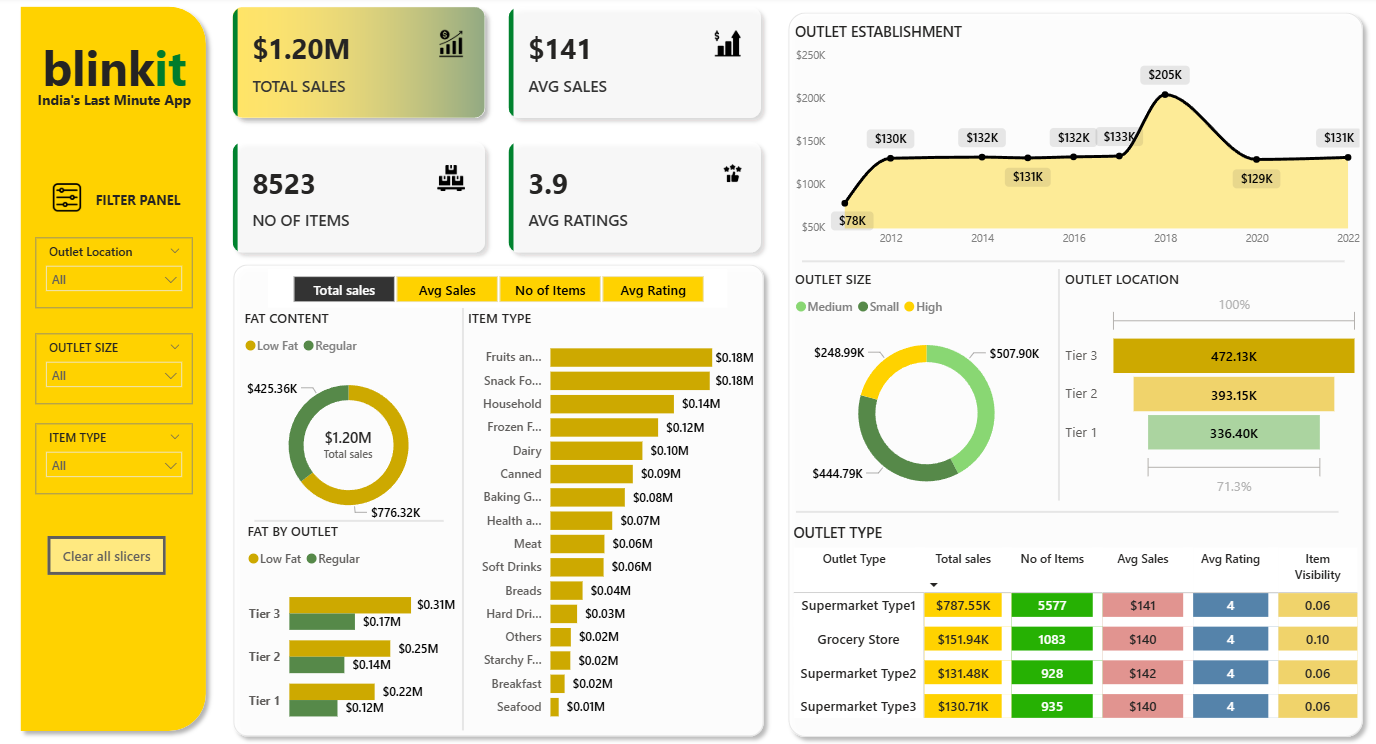

The page's visual inventory and layout, read from the dashboard file:
{"tool":"powerbi","page":{"name":"Page 1","canvas":[1400,800],"ordinal":0},"visuals":[{"type":"shape","box":[14.3,19.6,205.4,750],"z":0},{"type":"textbox","box":[32.1,51.8,171.4,75],"z":1000},{"type":"textbox","box":[32.1,107.1,171.4,33.9],"z":2000},{"type":"cardVisual","fields":{"Data":["BlinkIT Grocery Data.Total sales","BlinkIT Grocery Data.Avg Sales","BlinkIT Grocery Data.No of Items","BlinkIT Grocery Data.Avg Rating"]},"box":[219.6,12.5,569.6,282.1],"z":3000},{"type":"shape","box":[228.6,280.4,553.6,494.6],"z":4000},{"type":"donutChart","title":"FAT CONTENT","fields":{"Y":["BlinkIT Grocery Data.Total sales"],"Category":["BlinkIT Grocery Data.Item Fat Content"]},"box":[244.6,333.9,219.6,230.4],"z":5000},{"type":"slicer","fields":{"Values":["Metrics.Metrics"]},"box":[273.2,294.6,464.3,39.3],"z":6000},{"type":"cardVisual","fields":{"Data":["BlinkIT Grocery Data.Total sales"]},"box":[303.6,435.7,101.8,66.1],"z":7000},{"type":"clusteredBarChart","title":"FAT BY OUTLET","fields":{"Y":["BlinkIT Grocery Data.Total sales"],"Category":["BlinkIT Grocery Data.Outlet Location Type"],"Series":["BlinkIT Grocery Data.Item Fat Content"]},"box":[246.4,548.2,219.6,221.4],"z":8000},{"type":"shape","box":[258.9,539.3,191.1,17.9],"z":9000},{"type":"shape","box":[450,333.9,39.3,426.8],"z":10000},{"type":"clusteredBarChart","title":"ITEM TYPE","fields":{"Y":["BlinkIT Grocery Data.Total sales"],"Category":["BlinkIT Grocery Data.Item Type"]},"box":[469.6,333.9,298.2,426.8],"z":11000},{"type":"shape","box":[789.3,25,598.2,750],"z":12000},{"type":"lineChart","title":"OUTLET ESTABLISHMENT","fields":{"Y":["BlinkIT Grocery Data.Total sales"],"Category":["BlinkIT Grocery Data.Outlet Establishment Year"]},"box":[800,44.6,580.4,235.7],"z":13000},{"type":"shape","box":[812.5,276.8,548.2,17.9],"z":14000},{"type":"donutChart","title":"OUTLET SIZE","fields":{"Y":["BlinkIT Grocery Data.Total sales"],"Category":["BlinkIT Grocery Data.Outlet Size"]},"box":[800,294.6,275,244.6],"z":15000},{"type":"shape","box":[1064.3,294.6,16.1,233.9],"z":16000},{"type":"funnel","title":"OUTLET LOCATION","fields":{"Category":["BlinkIT Grocery Data.Outlet Location Type"],"Y":["Sum(BlinkIT Grocery Data.Sales)"]},"box":[1073.2,294.6,307.1,233.9],"z":17000},{"type":"shape","box":[805.4,530.4,548.2,17.9],"z":18000},{"type":"pivotTable","title":"OUTLET TYPE","fields":{"Rows":["BlinkIT Grocery Data.Outlet Type"],"Values":["BlinkIT Grocery Data.Total sales","BlinkIT Grocery Data.No of Items","BlinkIT Grocery Data.Avg Sales","BlinkIT Grocery Data.Avg Rating","Avg(BlinkIT Grocery Data.Item Visibility)"]},"box":[798.2,550,580.4,210.7],"z":19000},{"type":"slicer","fields":{"Values":["BlinkIT Grocery Data.Outlet Location Type"]},"box":[37.5,262.5,158.9,71.4],"z":20000},{"type":"slicer","fields":{"Values":["BlinkIT Grocery Data.Outlet Size"]},"box":[37.5,358.9,158.9,71.4],"z":21000},{"type":"slicer","fields":{"Values":["BlinkIT Grocery Data.Item Type"]},"box":[37.5,450,158.9,71.4],"z":22000},{"type":"textbox","box":[37.5,208.9,207.1,41.1],"z":23000},{"type":"image","box":[50,194.6,39.3,55.4],"z":24000},{"type":"actionButton","box":[50,564.3,119.6,39.3],"z":24001}]}

Visuals, with their boxes on the page's 1400x800 design canvas (x1, y1, x2, y2). These are canvas units, not pixel positions in the 1376x744 screenshot, which may show the page scaled, cropped or inside an application window:
shape: 14,20,220,770
textbox: 32,52,204,127
textbox: 32,107,204,141
cardVisual - BlinkIT Grocery Data.Total sales x BlinkIT Grocery Data.Avg Sales: 220,12,789,295
shape: 229,280,782,775
"FAT CONTENT" donutChart: 245,334,464,564
slicer - Metrics.Metrics: 273,295,738,334
cardVisual - BlinkIT Grocery Data.Total sales: 304,436,405,502
"FAT BY OUTLET" clusteredBarChart: 246,548,466,770
shape: 259,539,450,557
shape: 450,334,489,761
"ITEM TYPE" clusteredBarChart: 470,334,768,761
shape: 789,25,1388,775
"OUTLET ESTABLISHMENT" lineChart: 800,45,1380,280
shape: 812,277,1361,295
"OUTLET SIZE" donutChart: 800,295,1075,539
shape: 1064,295,1080,528
"OUTLET LOCATION" funnel: 1073,295,1380,528
shape: 805,530,1354,548
"OUTLET TYPE" pivotTable: 798,550,1379,761
slicer - BlinkIT Grocery Data.Outlet Location Type: 38,262,196,334
slicer - BlinkIT Grocery Data.Outlet Size: 38,359,196,430
slicer - BlinkIT Grocery Data.Item Type: 38,450,196,521
textbox: 38,209,245,250
image: 50,195,89,250
actionButton: 50,564,170,604
